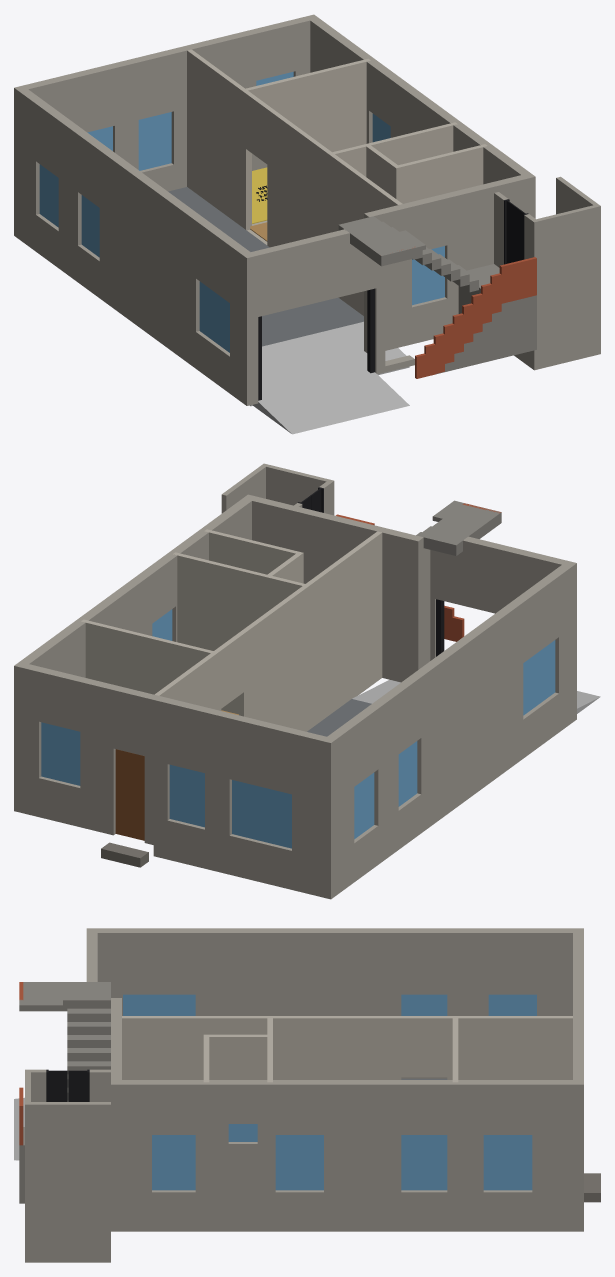
File: 05_ground_floor.glb
The picture shows the model from 3 angles, top to bottom: view 1: azimuth 30°, elevation 25°; view 2: azimuth 150°, elevation 25°; view 3: azimuth 270°, elevation 25°; orthographic projection. The views are drawn at different scales.
Parts seen in each view (by area): view 1: GF_Wall_Exterior, GF_Wall_Interior, GF_Lift_Shaft, GF_Ramp, GF_Stair_Flight, GF_Glass, GF_Stair_Guard, GF_Floor_Parking, GF_Lift_Doors, GF_Gate_Steel, GF_Floor_Kitchen; view 2: GF_Wall_Exterior, GF_Wall_Interior, GF_Glass, GF_Lift_Shaft, GF_Stair_Flight, GF_Door_Wood, GF_Floor_Parking, GF_Entrance_Steps, GF_Ramp, GF_Stair_Guard; view 3: GF_Wall_Exterior, GF_Wall_Interior, GF_Lift_Shaft, GF_Glass, GF_Stair_Flight, GF_Lift_Doors, GF_Entrance_Steps.
Boxes of the visible parts, x1=… form: GF_Wall_Exterior: x1=14, y1=14, x2=535, y2=405; GF_Wall_Interior: x1=187, y1=49, x2=487, y2=315; GF_Lift_Shaft: x1=494, y1=176, x2=600, y2=370; GF_Ramp: x1=250, y1=321, x2=409, y2=434; GF_Stair_Flight: x1=338, y1=216, x2=536, y2=374; GF_Glass: x1=39, y1=71, x2=444, y2=352; GF_Stair_Guard: x1=401, y1=247, x2=536, y2=378; GF_Floor_Parking: x1=168, y1=187, x2=363, y2=346; GF_Lift_Doors: x1=504, y1=199, x2=528, y2=264; GF_Gate_Steel: x1=258, y1=288, x2=374, y2=400; GF_Floor_Kitchen: x1=252, y1=167, x2=267, y2=223; GF_Wall_Exterior: x1=14, y1=494, x2=576, y2=899; GF_Wall_Interior: x1=81, y1=529, x2=382, y2=731; GF_Glass: x1=41, y1=609, x2=555, y2=848; GF_Lift_Shaft: x1=221, y1=463, x2=334, y2=515; GF_Stair_Flight: x1=416, y1=500, x2=501, y2=555; GF_Door_Wood: x1=115, y1=749, x2=144, y2=840; GF_Floor_Parking: x1=307, y1=699, x2=371, y2=736; GF_Entrance_Steps: x1=101, y1=842, x2=148, y2=867; GF_Ramp: x1=352, y1=679, x2=600, y2=713; GF_Stair_Guard: x1=336, y1=503, x2=501, y2=641; GF_Wall_Exterior: x1=86, y1=928, x2=583, y2=1231; GF_Wall_Interior: x1=122, y1=1016, x2=572, y2=1082; GF_Lift_Shaft: x1=25, y1=1069, x2=110, y2=1262; GF_Glass: x1=123, y1=994, x2=536, y2=1190; GF_Stair_Flight: x1=19, y1=982, x2=110, y2=1203; GF_Lift_Doors: x1=46, y1=1069, x2=89, y2=1101; GF_Entrance_Steps: x1=584, y1=1173, x2=600, y2=1202.
Bounding box in the file's own units: 8.28 × 3.75 × 12.12.
